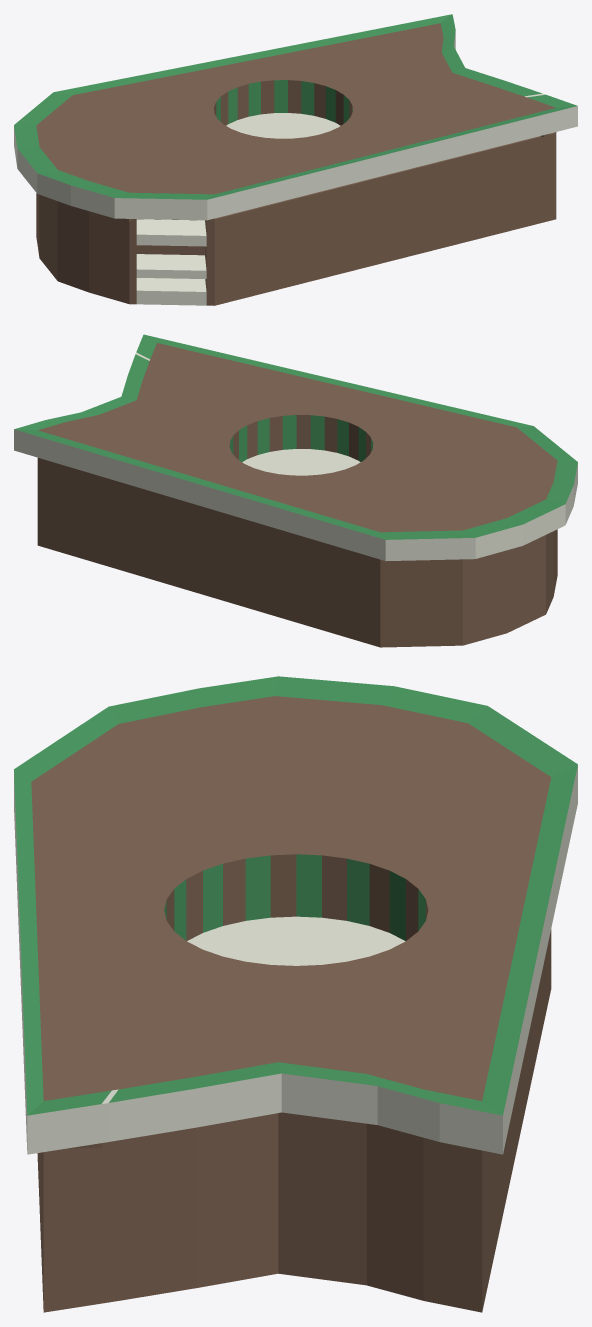
Rendered from 3rdCounter.fbx.
The picture shows the model from 3 angles, top to bottom: view 1: azimuth 30°, elevation 25°; view 2: azimuth 150°, elevation 25°; view 3: azimuth 270°, elevation 25°; orthographic projection. The views are drawn at different scales.
Parts seen in each view (by area): view 1: Cube.021; view 2: Cube.021; view 3: Cube.021.
Boxes of the visible parts, left/top/right/bottom form: Cube.021: left=14, top=14, right=577, bottom=305; Cube.021: left=14, top=334, right=577, bottom=647; Cube.021: left=14, top=676, right=577, bottom=1312.
Size of the model in its own units: 5.11 by 1.16 by 2.77.
